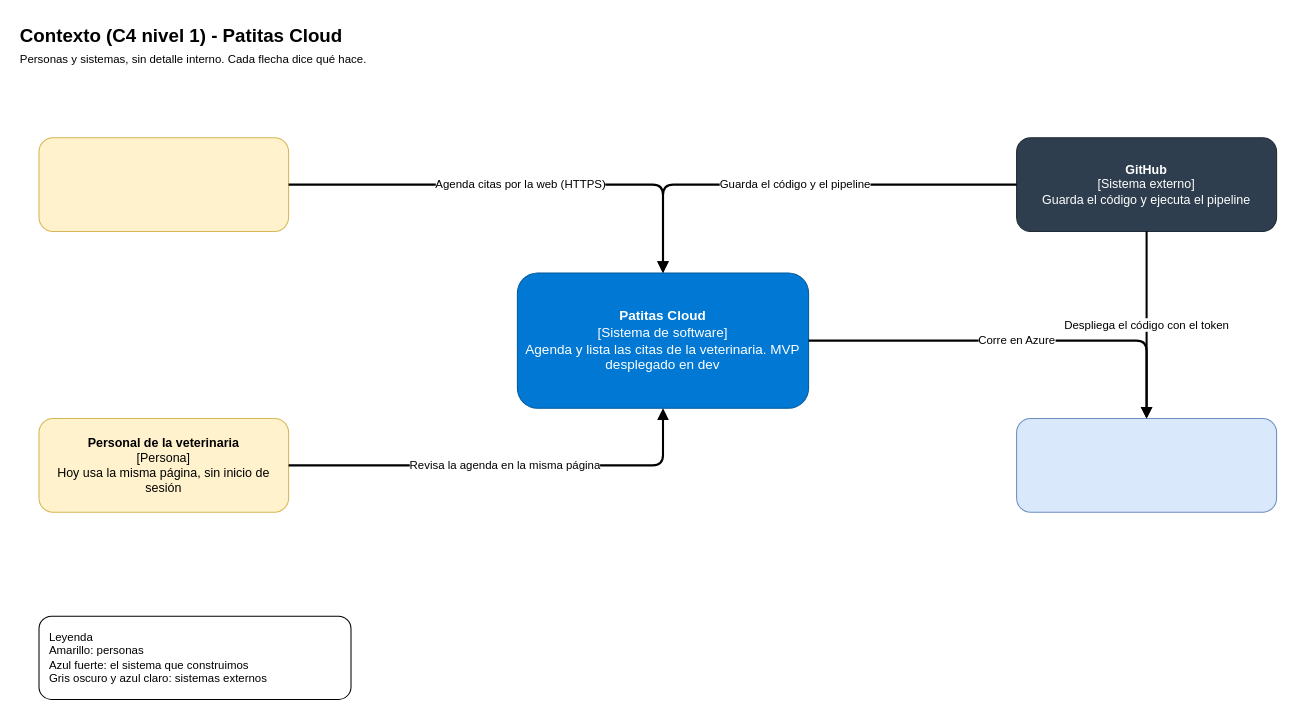
Some shapes in this 1295 by 718 pixel diagram are drawn without their labels. The shapes that lost their labels are listed below. From the top down, each one's centre as x and y in pixels, then its label:
At pixel 163 184: "Cliente de la veterinaria [Persona] Agenda citas para su mascota".
At pixel 1146 465: "Microsoft Azure [Sistema externo] Aloja el sitio, la API y los datos".
